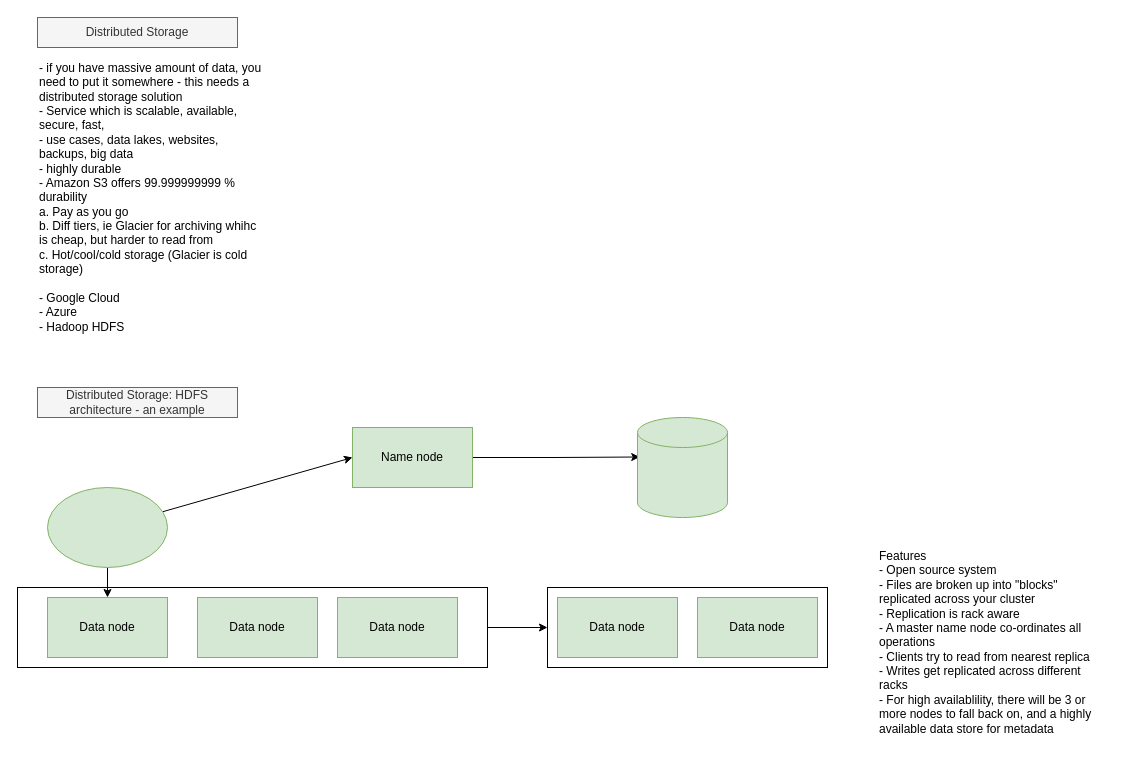
Image size: 1125x765. Some labels were removed from this diagram. The shapes that lost their labels are listed below. From the top down, each one's box as (x1, y1, x2, y2) in pixels, then its label:
(636, 416, 728, 518): Metadata (name, replicas, locations)
(46, 486, 168, 568): Client
